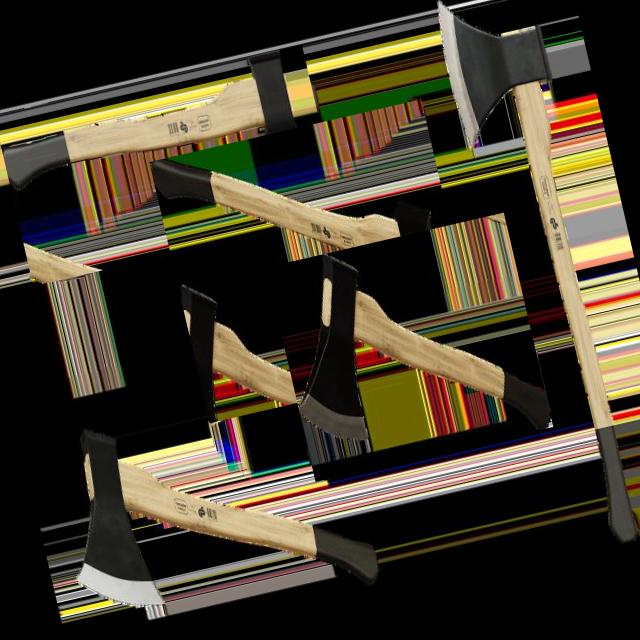Axe: (439, 3, 638, 541), (154, 159, 481, 361), (5, 51, 339, 227), (78, 429, 378, 606), (299, 254, 551, 439)
